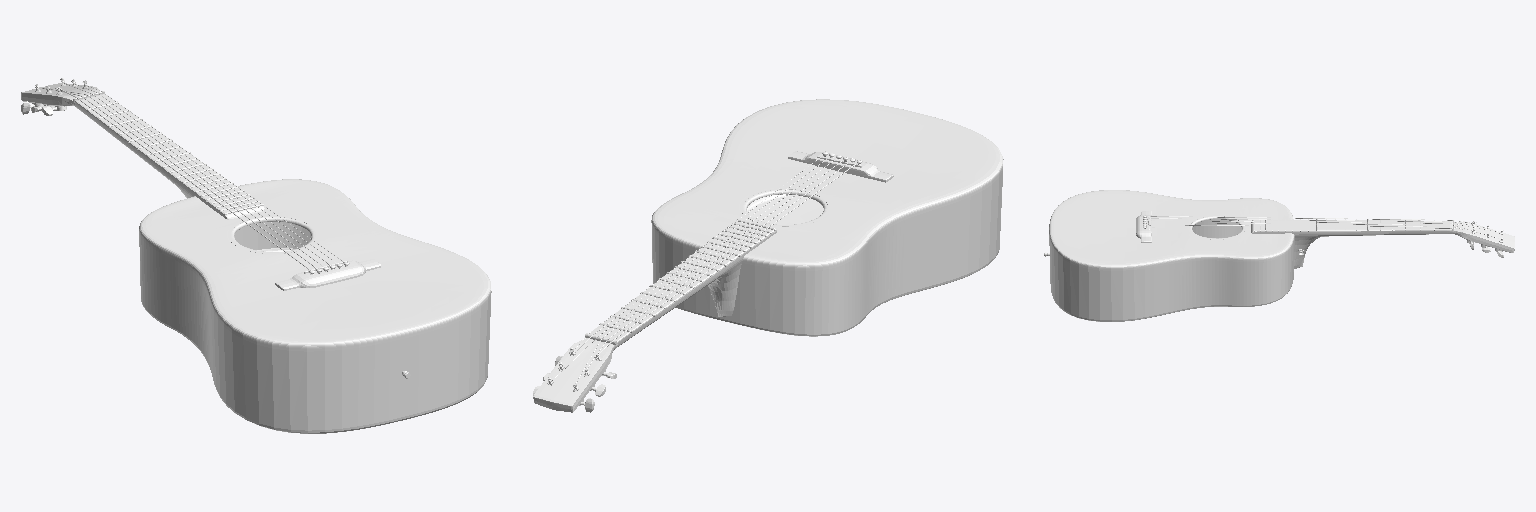
URDF robot description (guitar.urdf):
<?xml version="1.0" ?>
<robot name="guitar.urdf">
  <link name="baseLink">
    <inertial>
      <origin rpy="0 0 0" xyz="0 0 0"/>
       <mass value="0.0"/>
       <inertia ixx="0" ixy="0" ixz="0" iyy="0" iyz="0" izz="0"/>
    </inertial>
    <visual>
      <origin rpy="0 0 0" xyz="0 0 0.3"/>
      <geometry>
        <mesh filename="guitar-wood-10mb.obj" scale="0.01 0.01 0.01"/>
      </geometry>
      <material name="white">
       <color rgba="1 1 1 1"/>
     </material>
    </visual>
    <collision>
      <origin rpy="0 0 0" xyz="0 0 0"/>
      <geometry>
        <mesh filename="guitar-wood-10mb.obj" scale="0.01 0.01 0.01"/>
        <!-- You could also specify the collision (for the guitar-wood-10mb) with a "box" tag: -->
        <!-- <box size=".06 .06 .06"/> -->
      </geometry>
    </collision>
  </link>
</robot>

--- Render facts (derived) ---
Views: 3 orthographic renders of the robot side by side, from view 1: azimuth 30°, elevation 25°; view 2: azimuth 150°, elevation 25°; view 3: azimuth 270°, elevation 25°.
Model guitar.urdf with 1 links and 0 joints (none), rooted at baseLink, posed all joints at 0.
Visible links, largest first — view 1: baseLink; view 2: baseLink; view 3: baseLink.
Boxes of the visible links, <box> form: baseLink: <box>21,78,491,433</box>; baseLink: <box>533,99,1003,412</box>; baseLink: <box>1044,190,1514,321</box>.
Bounding box of the posed robot: 0.5713 × 1.47 × 0.2293 m (x, y, z).
Meshes: 1 distinct files referenced, 1 mesh visuals loaded (1 OBJ).
